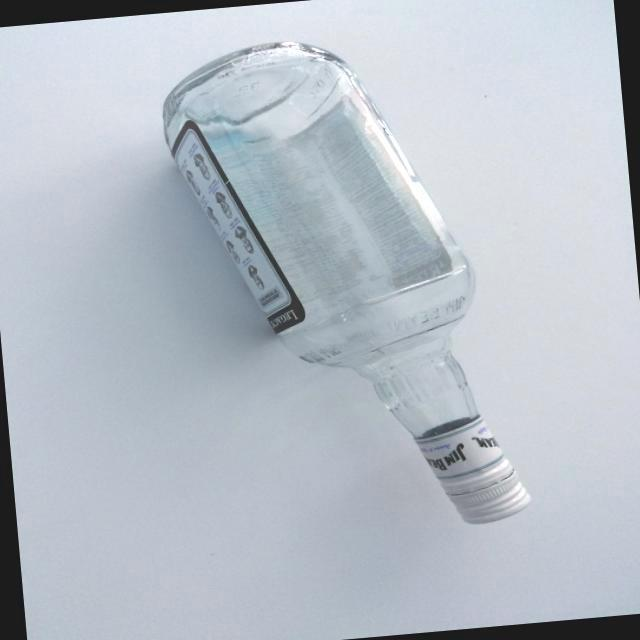glass: (145, 12, 568, 550)
